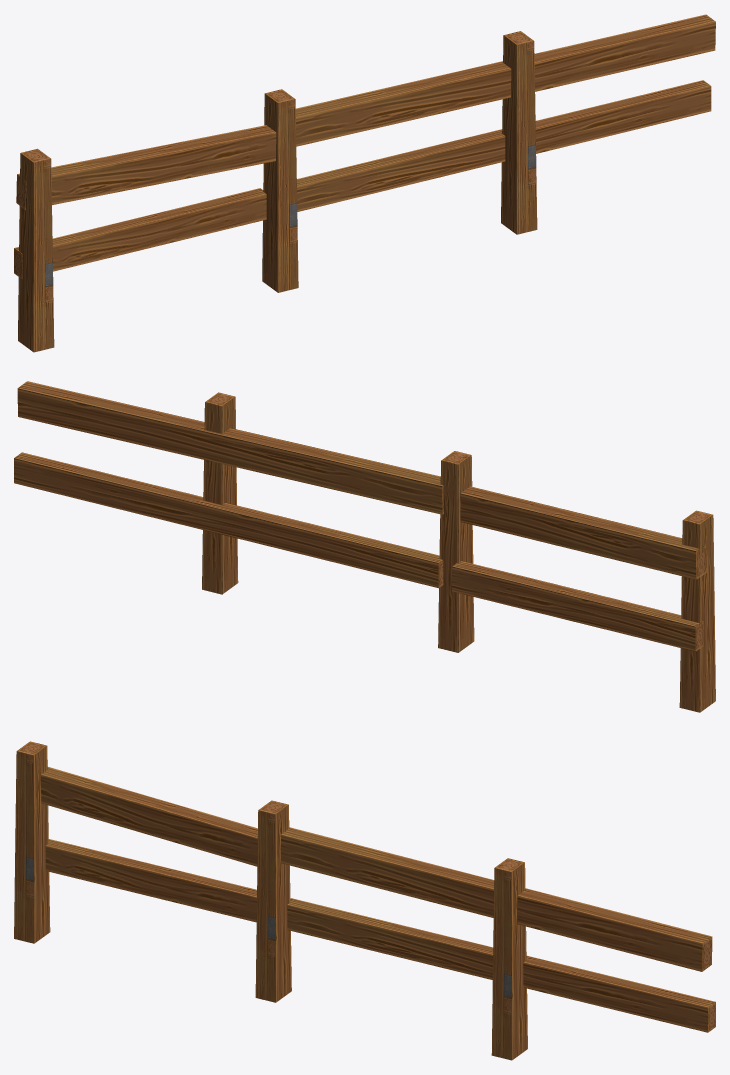
3 renders of one model, top to bottom at view 1: azimuth 30°, elevation 25°; view 2: azimuth 150°, elevation 25°; view 3: azimuth 330°, elevation 25°, orthographic.
Visible parts, largest first — view 1: Cube.1635; view 2: Cube.1635; view 3: Cube.1635.
Part boxes in pixels (x1,y1,x2,y2): Cube.1635: [14, 14, 715, 352]; Cube.1635: [14, 381, 715, 712]; Cube.1635: [14, 741, 715, 1060].
Bounding box in the file's own units: 579 × 152 × 30.61.
Materials: 1 (1 with a texture image).
